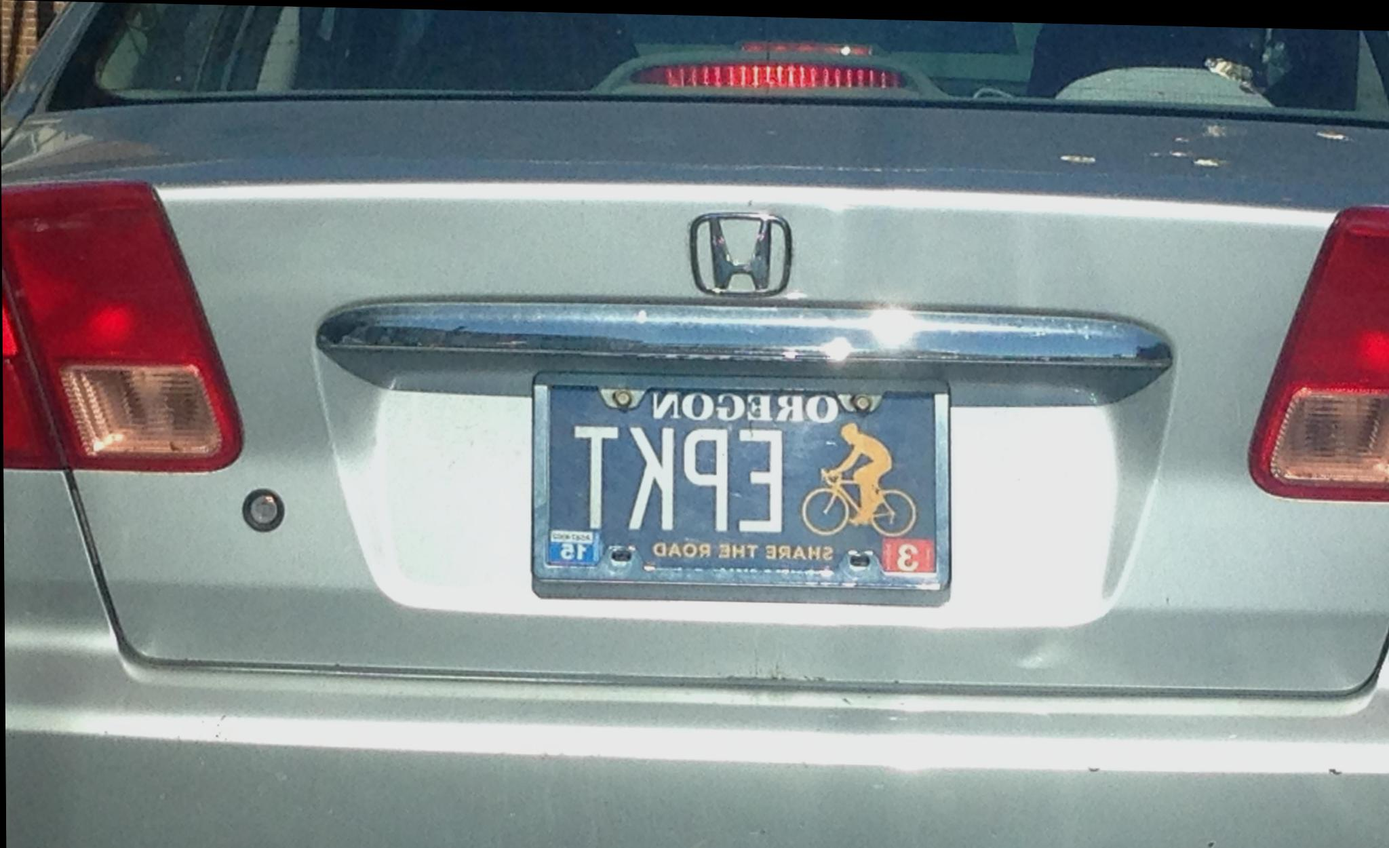License_Plate: (522, 361, 967, 606)
